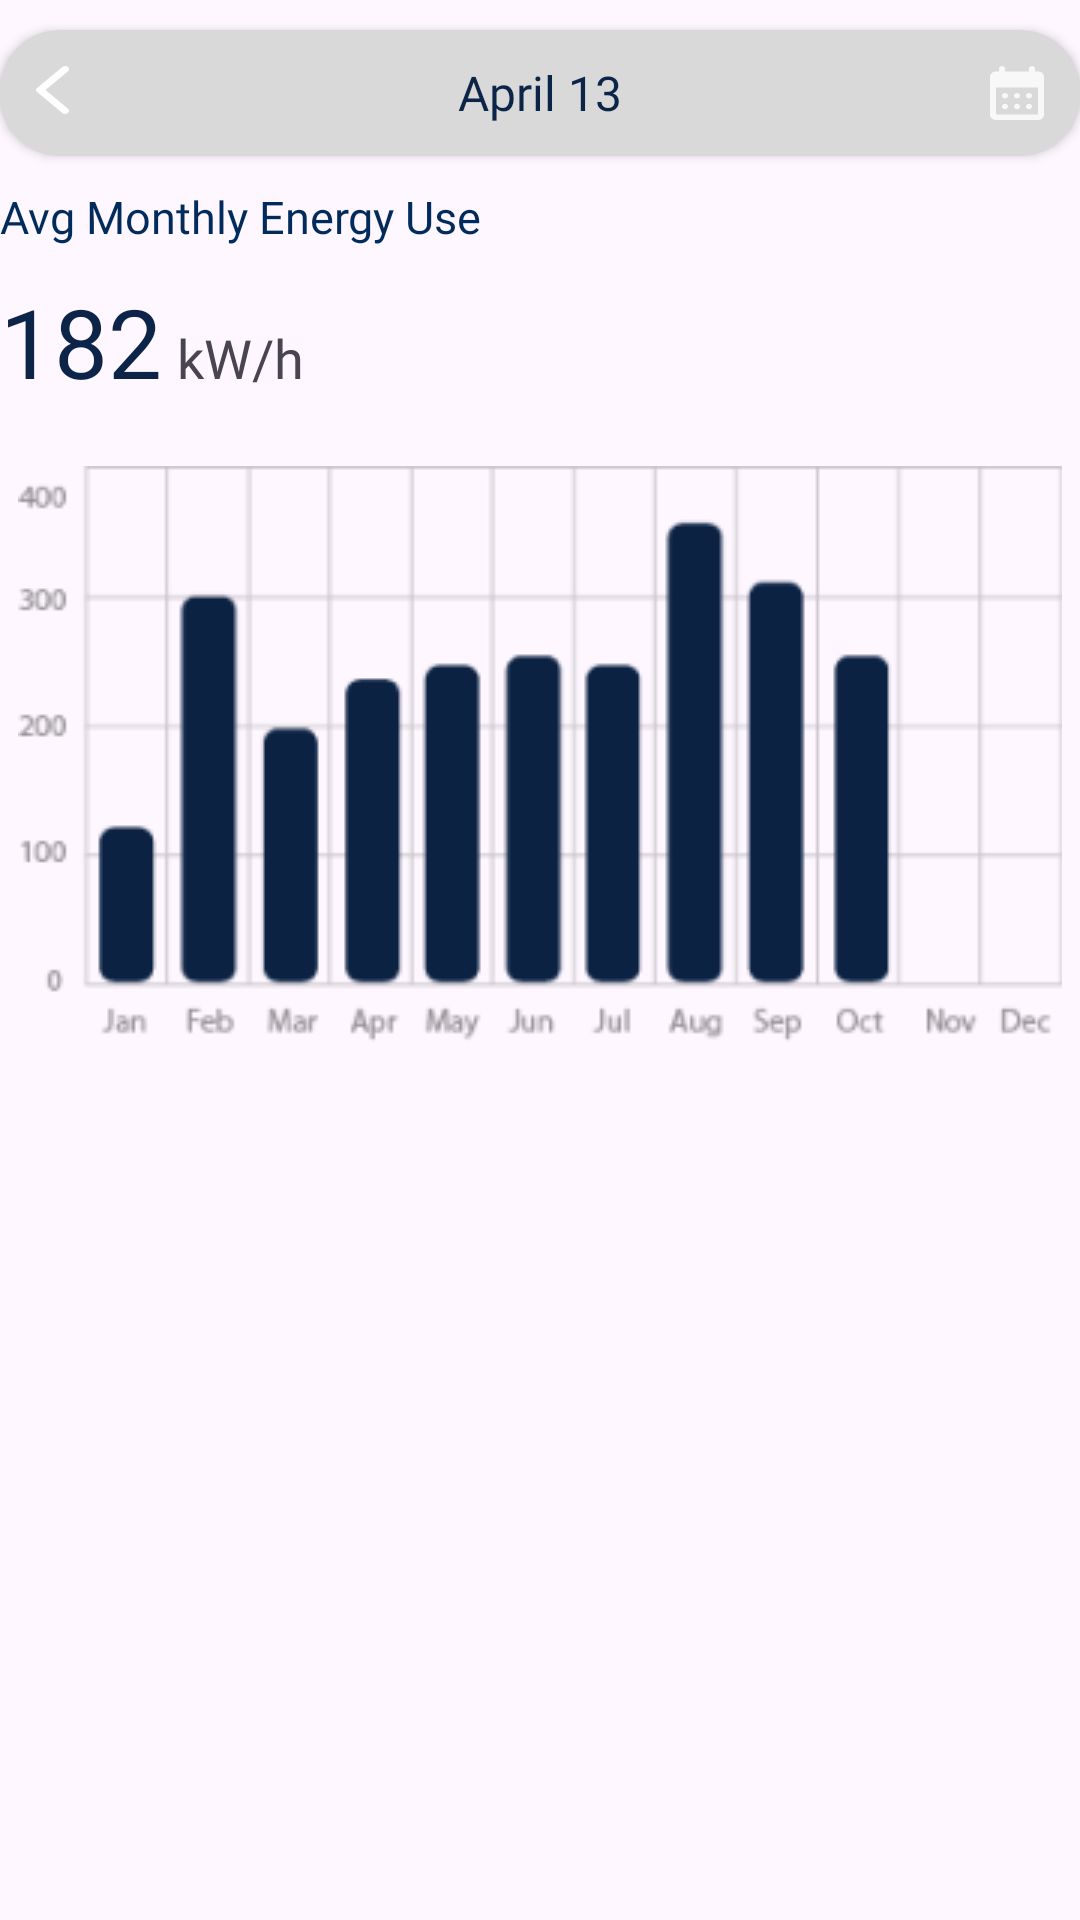

Icon bounding boxes for this 1080 × 1920 phone screenshot, format (x1, y1, x2, y2):
back: (36, 66, 69, 114)
date: (990, 66, 1044, 120)
